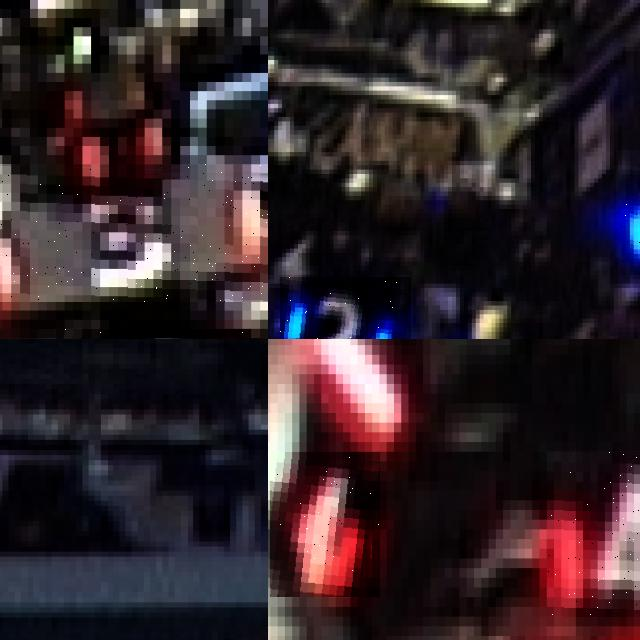B2: (280, 277, 410, 339), (616, 149, 640, 259)
R3: (0, 164, 268, 301)
R4: (270, 452, 380, 597), (546, 451, 640, 616)
